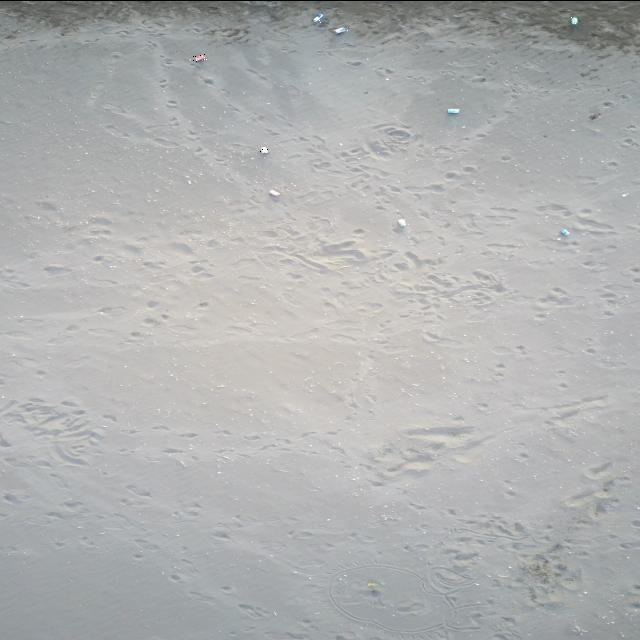Garbage: (191, 52, 206, 62), (312, 13, 323, 23), (268, 188, 280, 196), (588, 111, 600, 119), (367, 580, 379, 588), (333, 26, 347, 32), (447, 108, 459, 114), (560, 227, 568, 236), (397, 219, 406, 227), (569, 16, 576, 24), (260, 147, 267, 152), (620, 192, 628, 196)
